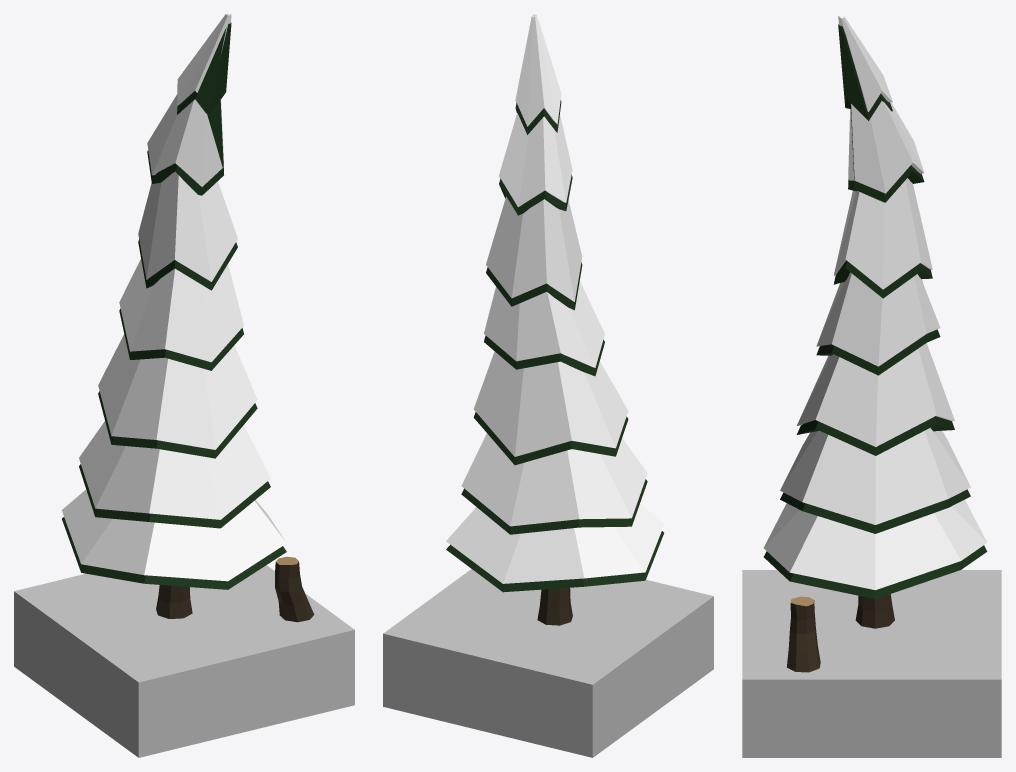
File: Tile_Tree_5.obj
3 renders of one model, left to right at view 1: azimuth 30°, elevation 25°; view 2: azimuth 150°, elevation 25°; view 3: azimuth 270°, elevation 25°, orthographic. The views are drawn at different scales.
Visible parts, largest first — view 1: Cylinder.000_Cylinder.004, Cube, Cylinder.001_Cylinder.000, Cylinder.003, Cylinder_Cylinder.005; view 2: Cylinder.000_Cylinder.004, Cube, Cylinder.001_Cylinder.000, Cylinder_Cylinder.005; view 3: Cylinder.000_Cylinder.004, Cube, Cylinder.001_Cylinder.000, Cylinder.003, Cylinder_Cylinder.005.
Part boxes in pixels (x1,y1,x2,y2): Cylinder.000_Cylinder.004: (61,14,286,581); Cube: (14,565,354,757); Cylinder.001_Cylinder.000: (62,22,286,589); Cylinder.003: (275,556,314,622); Cylinder_Cylinder.005: (156,585,192,618); Cylinder.000_Cylinder.004: (446,14,664,583); Cube: (383,569,713,757); Cylinder.001_Cylinder.000: (446,100,663,592); Cylinder_Cylinder.005: (537,587,572,625); Cylinder.000_Cylinder.004: (764,14,987,590); Cube: (742,570,1001,757); Cylinder.001_Cylinder.000: (763,24,987,598); Cylinder.003: (787,596,820,672); Cylinder_Cylinder.005: (855,594,894,628).
Size of the model in its own units: 3 by 8.96 by 3.
